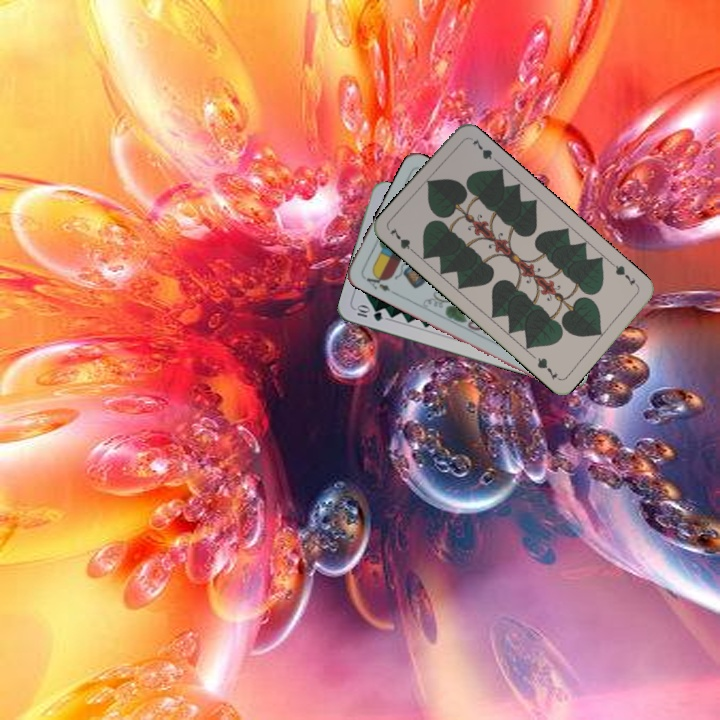EA: (359, 268, 393, 294)
G10: (351, 302, 385, 324)
G7: (386, 223, 419, 257), (608, 259, 641, 290)
